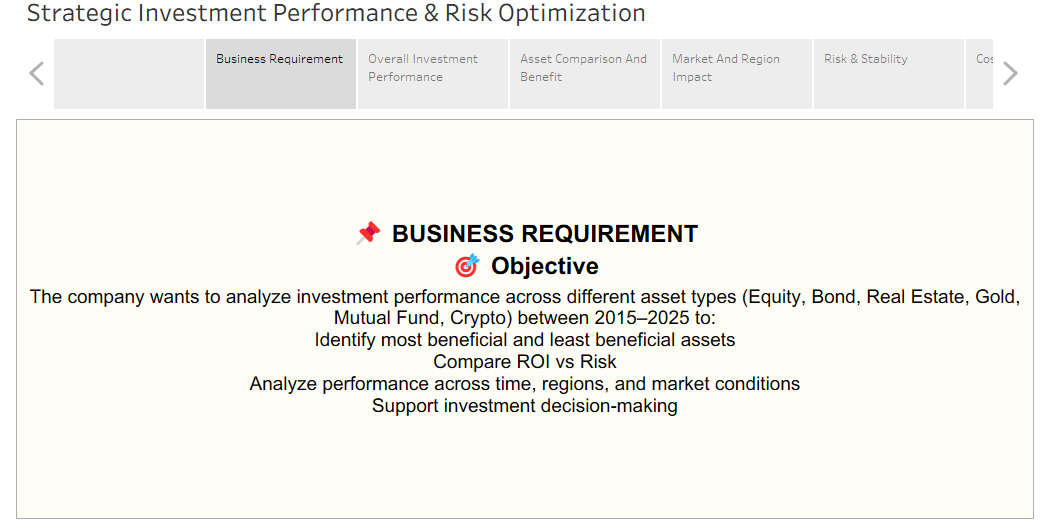

This screenshot's page, from the dashboard's own definition file:
{"tool":"tableau","page":{"name":"Pic","canvas":[1000,1000],"units":"permille","ordinal":5},"visuals":[{"type":"image","param":"F:/Project/Tableau/new/download.jpg","box":[53,105.3,900,861.8]},{"type":"text","box":[79.1,147.4,745.2,161.8]}]}

Visuals, with their boxes on the dashboard's canvas, which has no fixed pixel size, in thousandths of its width and height (x1, y1, x2, y2). These are canvas units, not pixel positions in the 1049x532 screenshot, which may show the page scaled, cropped or inside an application window:
image: {"x1": 53, "y1": 105, "x2": 953, "y2": 967}
text: {"x1": 79, "y1": 147, "x2": 824, "y2": 309}
